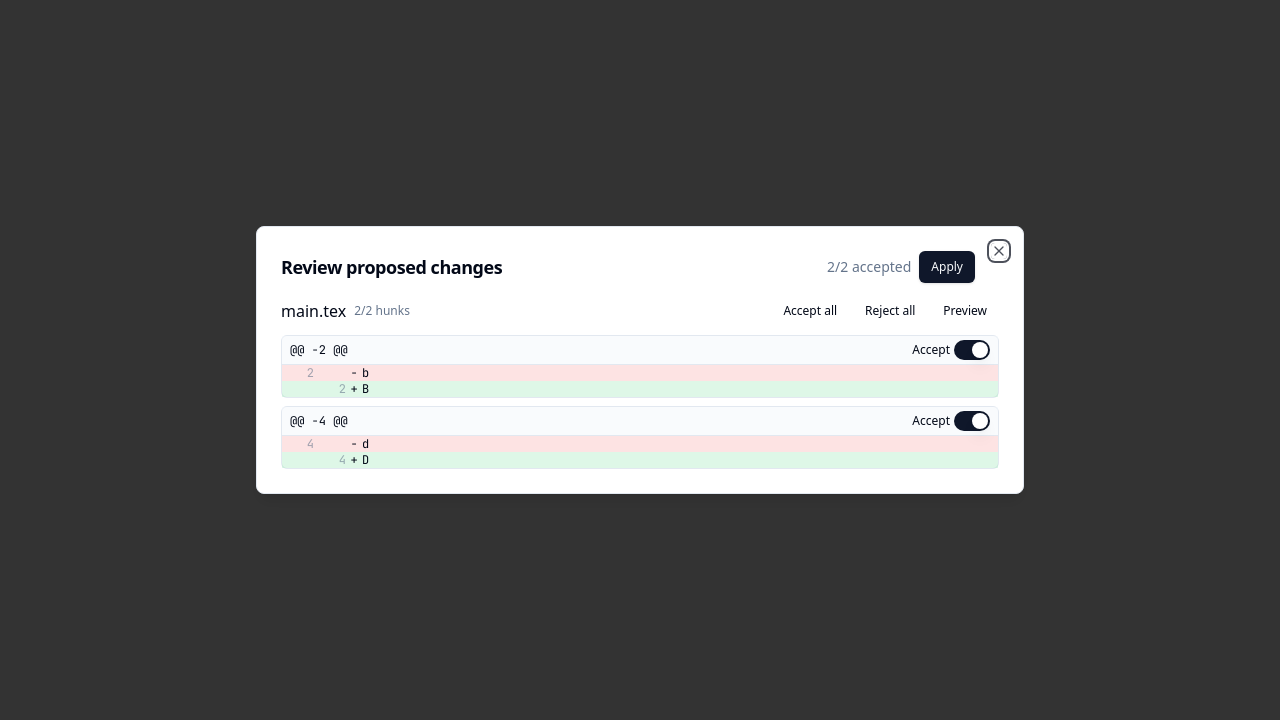
Test case: DiffReviewDialog (accept/reject) › reject-all then accept-all flips every switch and the counter/preview (AC3)
The width and height of the screenshot is (1280, 720).
Expected: the text "main.tex" is shown, [281,299,346,323]
Expected: the text "2/2 accepted" is shown, [827,257,911,277]
Click the button "Reject all" at (890, 311), box [853,295,927,327]
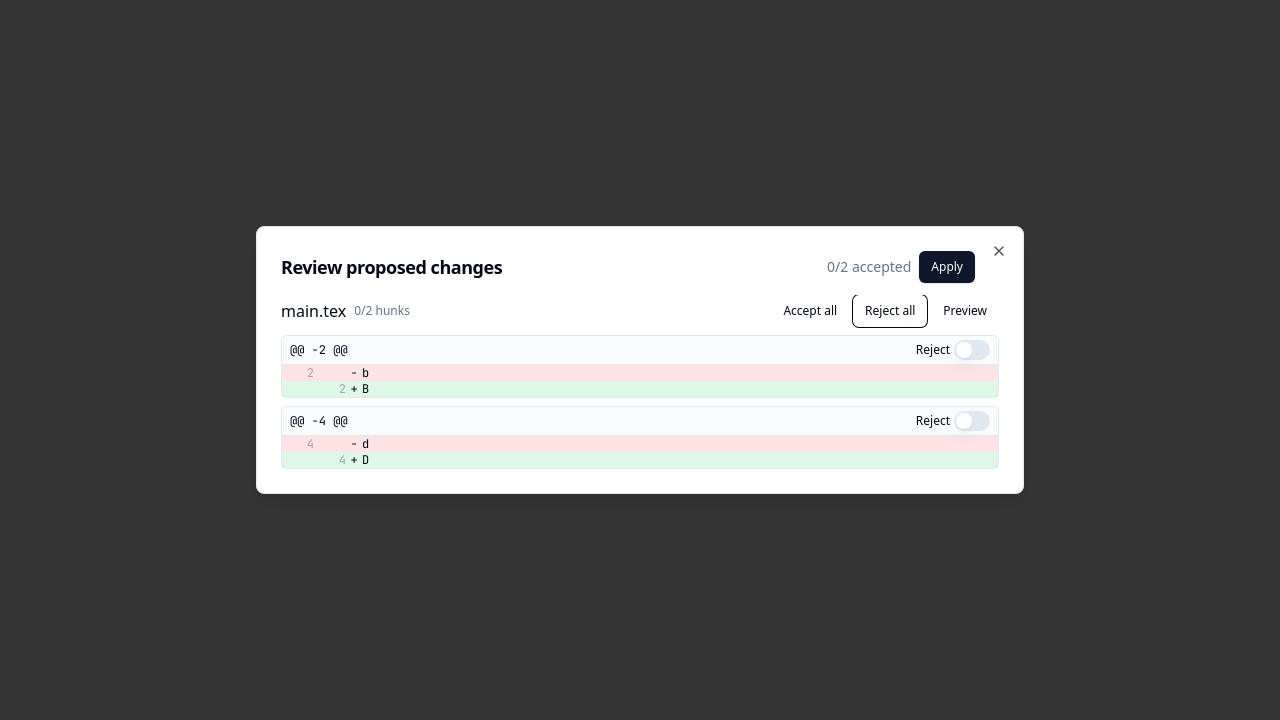
Now the text "0/2 accepted" is shown, box [827,257,911,277]
Preview reflects no accepted hunks: live content is unchanged (no B/D).
Click the button "Preview" at (965, 311), box [931,295,999,327]
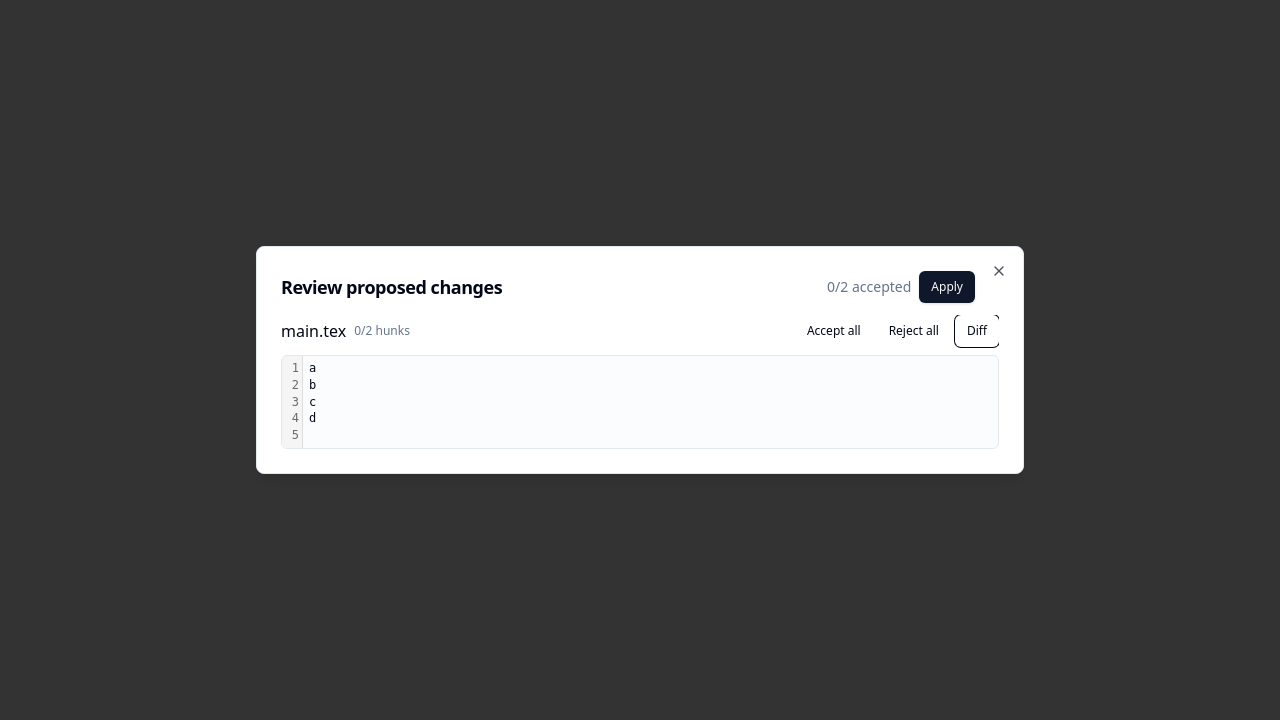
Expected: the element with test id "preview-editor" does not show "B"
Expected: the element with test id "preview-editor" does not show "D"
Click the button "Diff" at (977, 331), box [955,315,999,347]
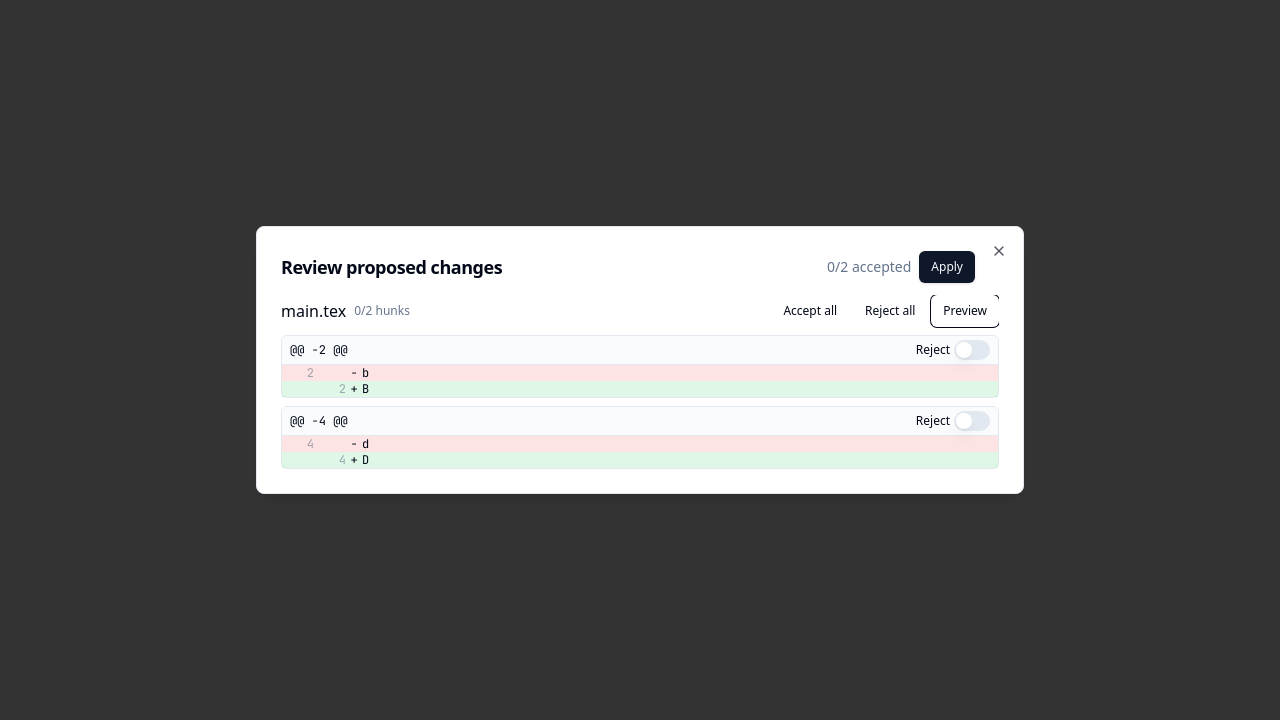
Click the button "Accept all" at (810, 311), box [771,295,849,327]
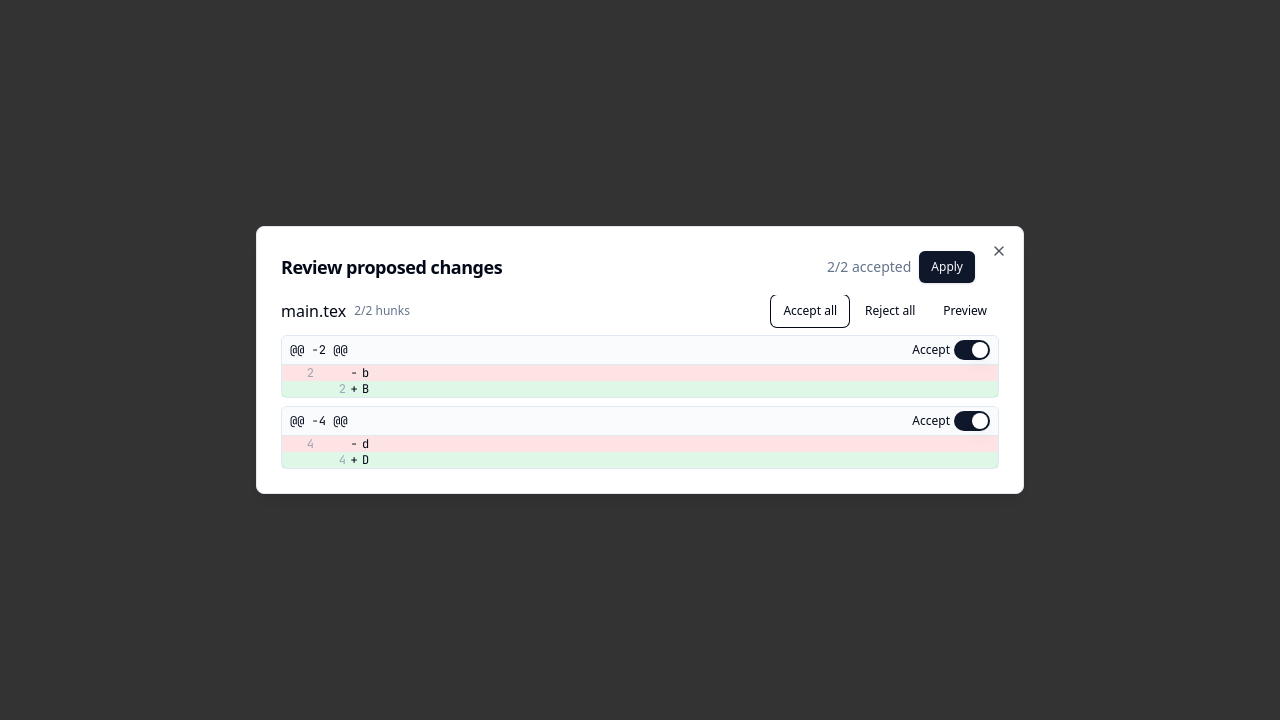
Now the text "2/2 accepted" is shown, box [827,257,911,277]
Click the button "Preview" at (965, 311), box [931,295,999,327]
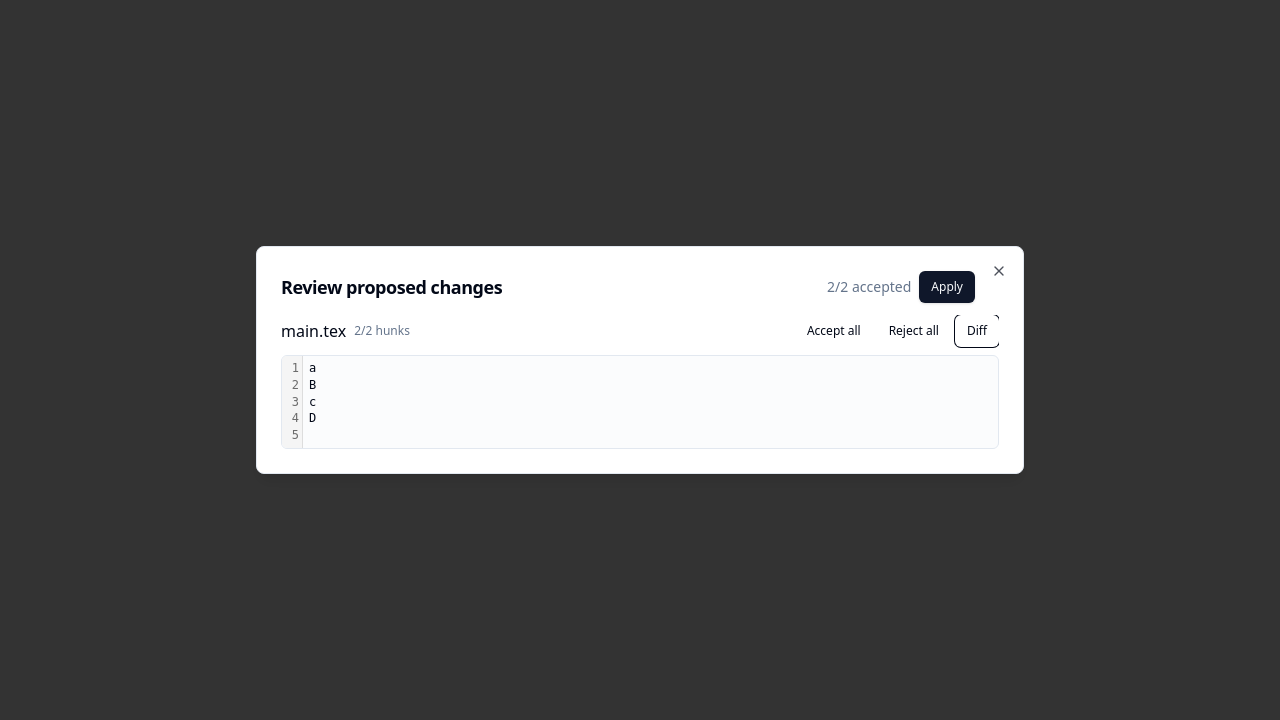
Now the element with test id "preview-editor" shows "B", box [309,378,316,392]
Now the element with test id "preview-editor" shows "D", box [309,411,316,425]
